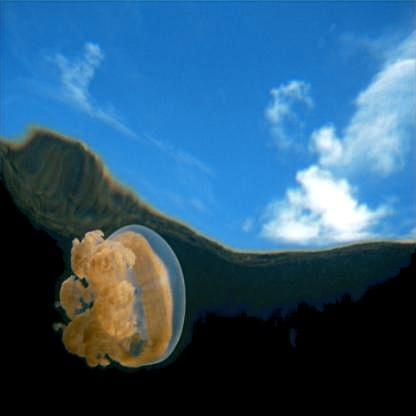Handstand: (54, 220, 188, 369)
